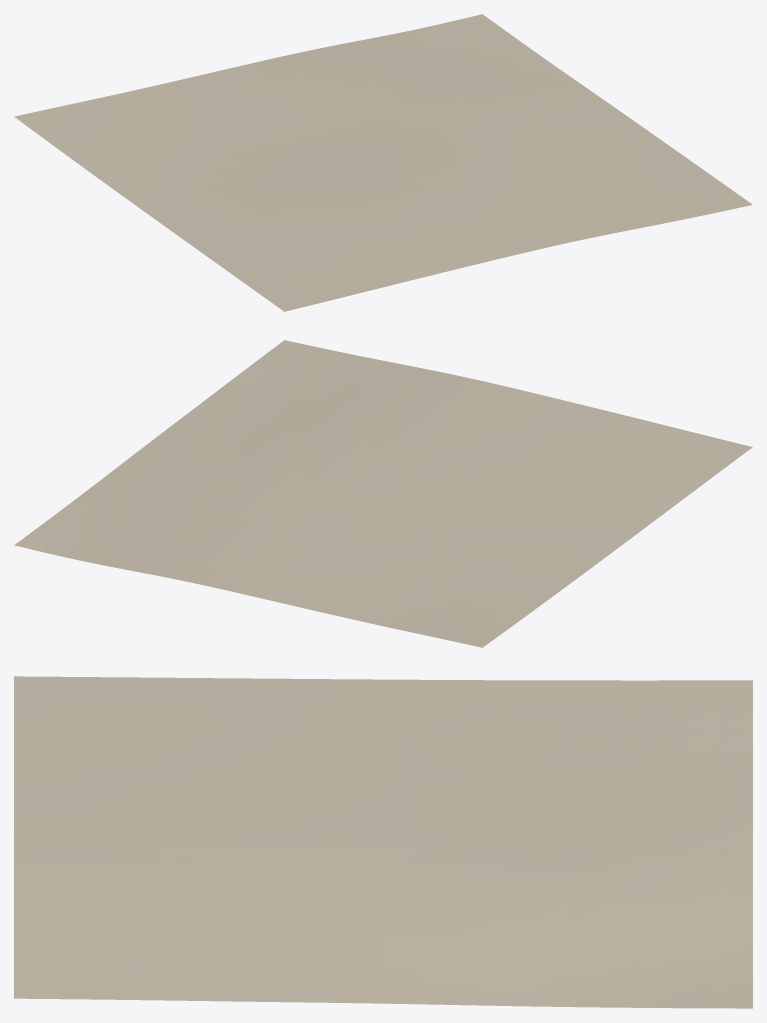
Rendered from bolak_14_1.glb.
3 renders of one model, top to bottom at view 1: azimuth 30°, elevation 25°; view 2: azimuth 150°, elevation 25°; view 3: azimuth 270°, elevation 25°, orthographic. The views are drawn at different scales.
Visible parts, largest first — view 1: Yer_Tuproq-col; view 2: Yer_Tuproq-col; view 3: Yer_Tuproq-col.
Boxes of the visible parts, bbox=[...] form: Yer_Tuproq-col: bbox=[14, 14, 752, 311]; Yer_Tuproq-col: bbox=[14, 340, 752, 647]; Yer_Tuproq-col: bbox=[14, 676, 752, 1008].
Size of the model in its own units: 400 by 12.35 by 400.
